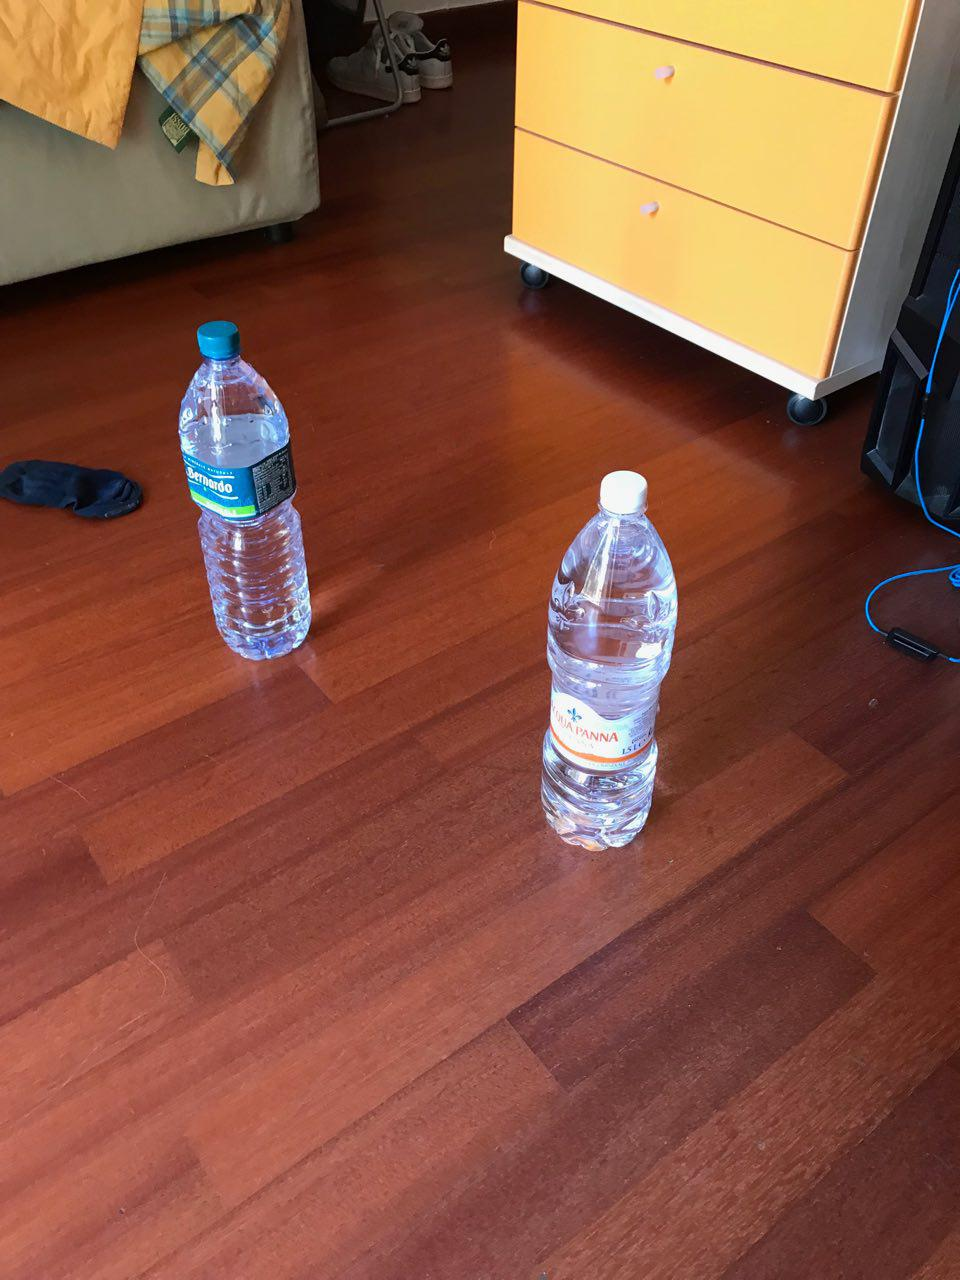san_bernardo: (177, 318, 314, 662)
